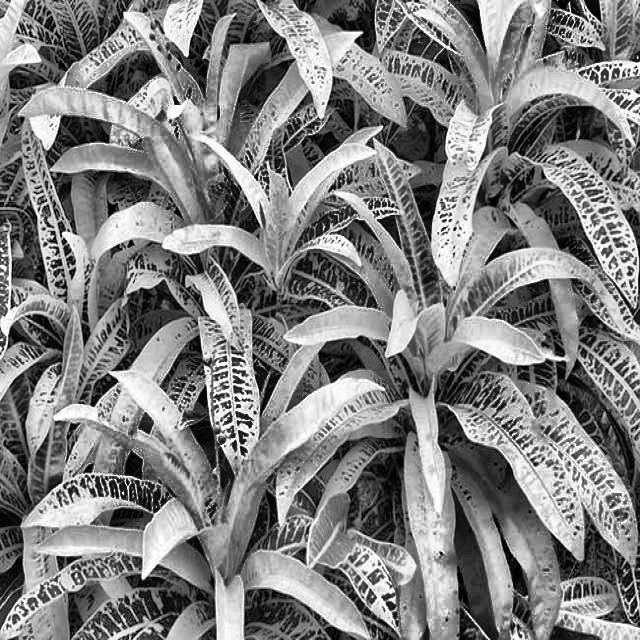plants: (41, 33, 602, 613)
